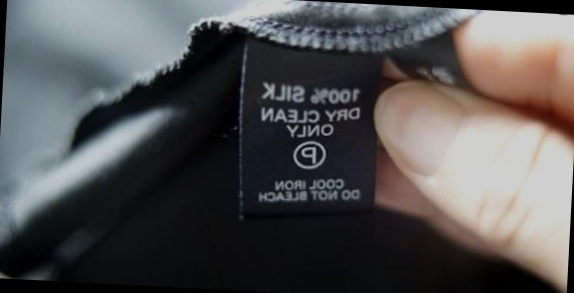dry_clean_any_solvent_except_trichloroethylene: (291, 138, 326, 170)
